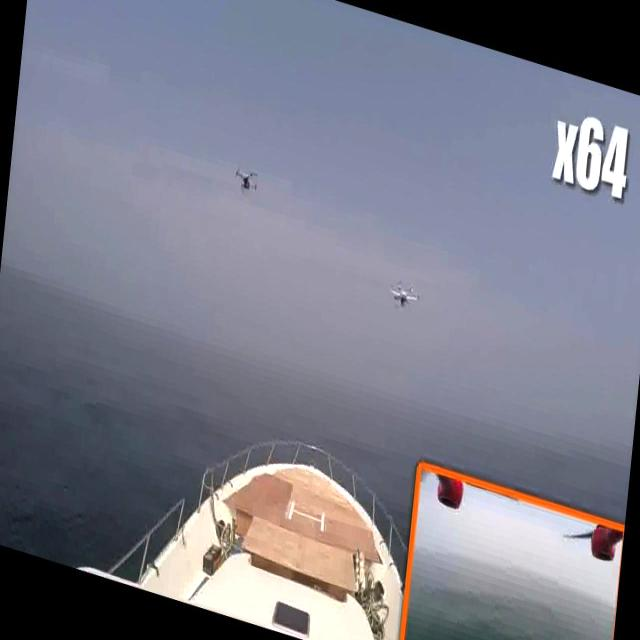drone: (381, 265, 425, 322), (228, 154, 265, 204)
